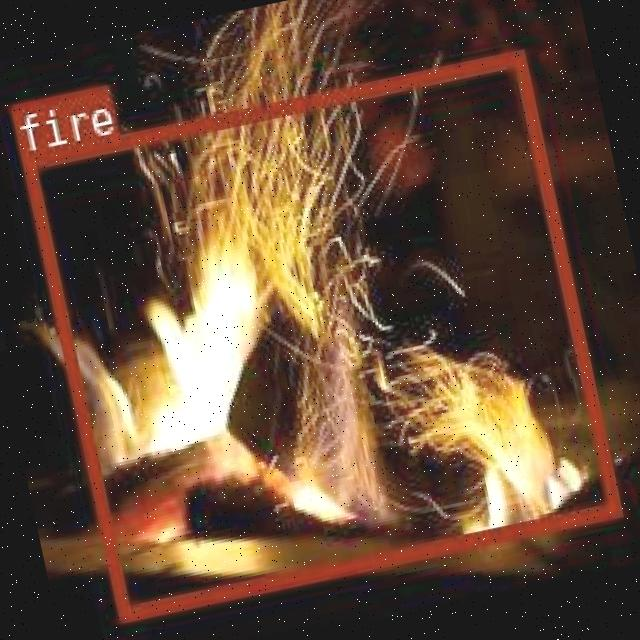fire: (19, 49, 618, 620)
